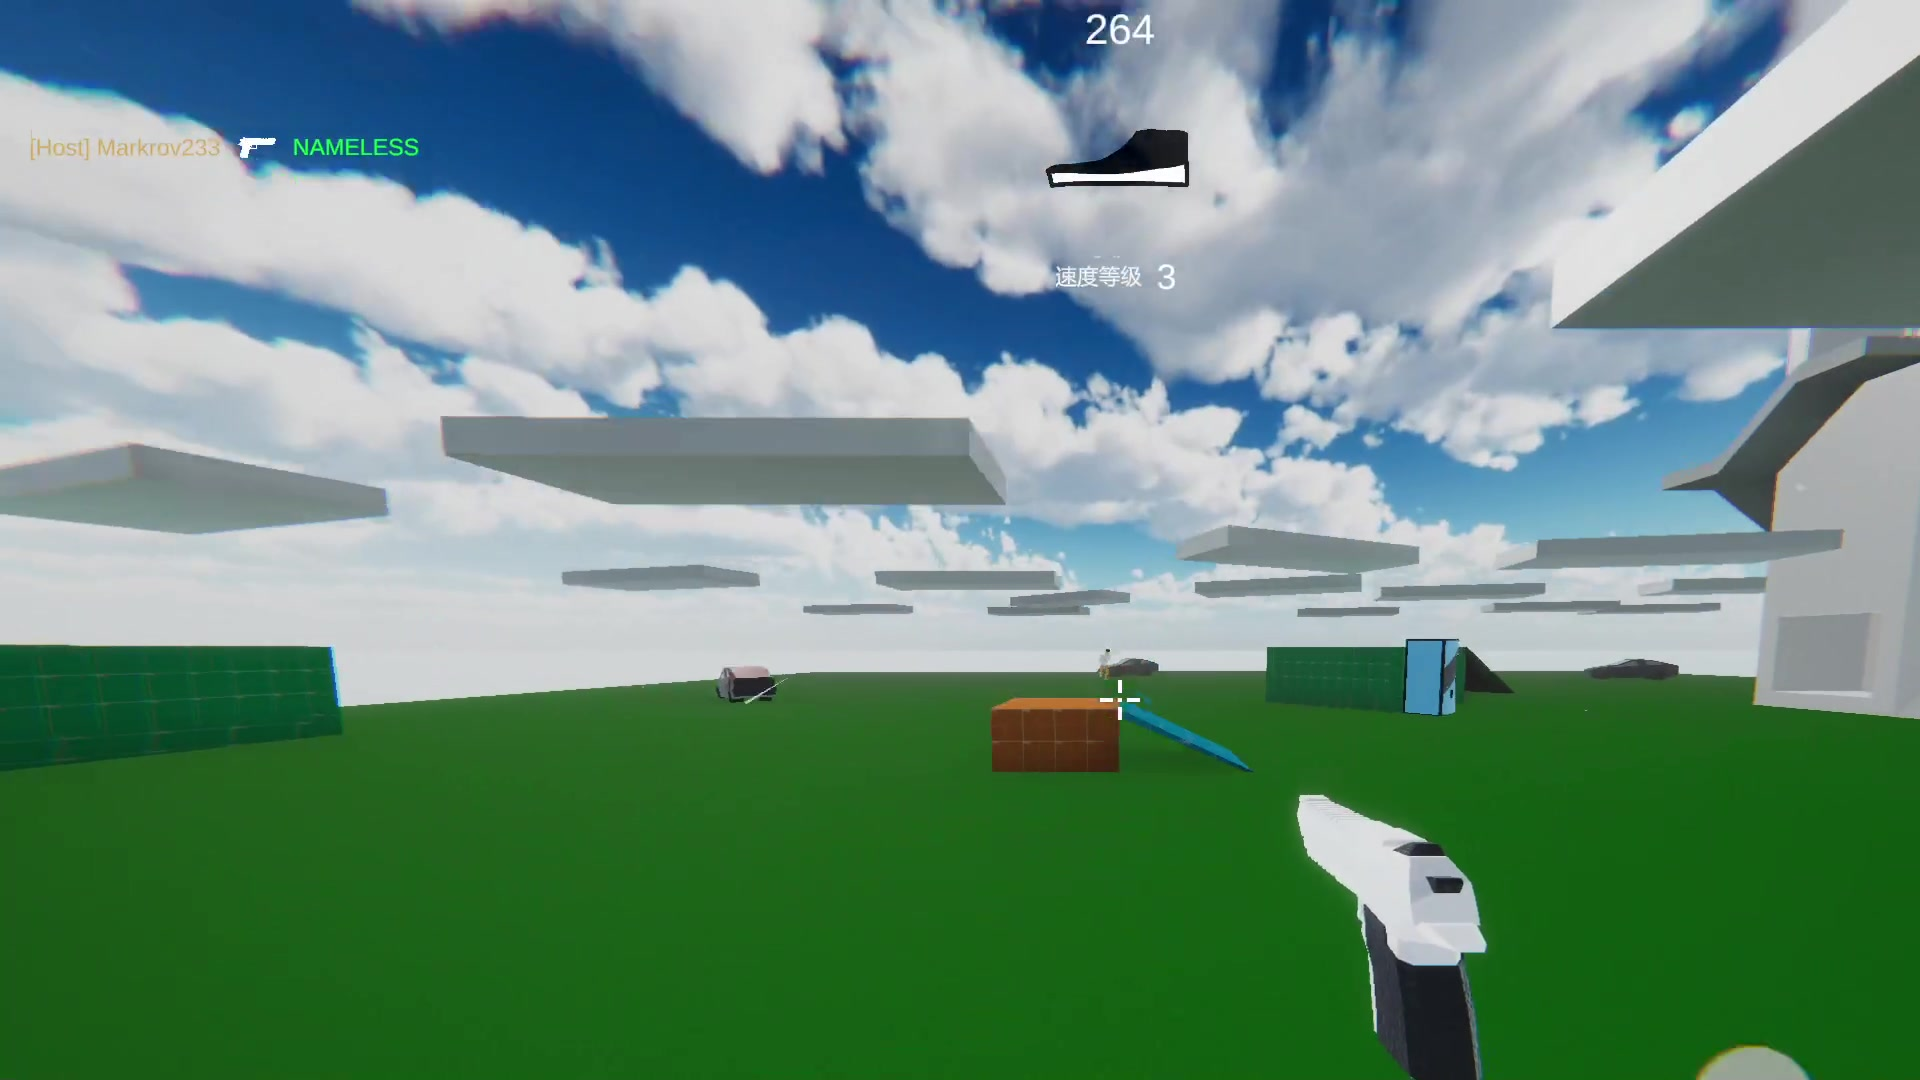human: (1097, 645, 1108, 668)
